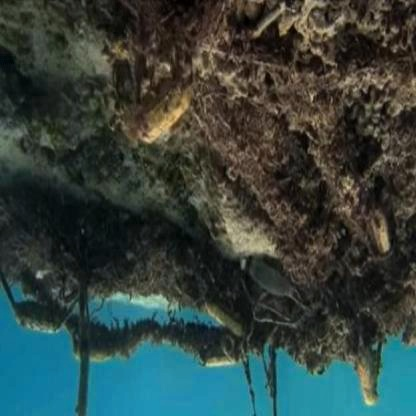net: (192, 46, 387, 324)
